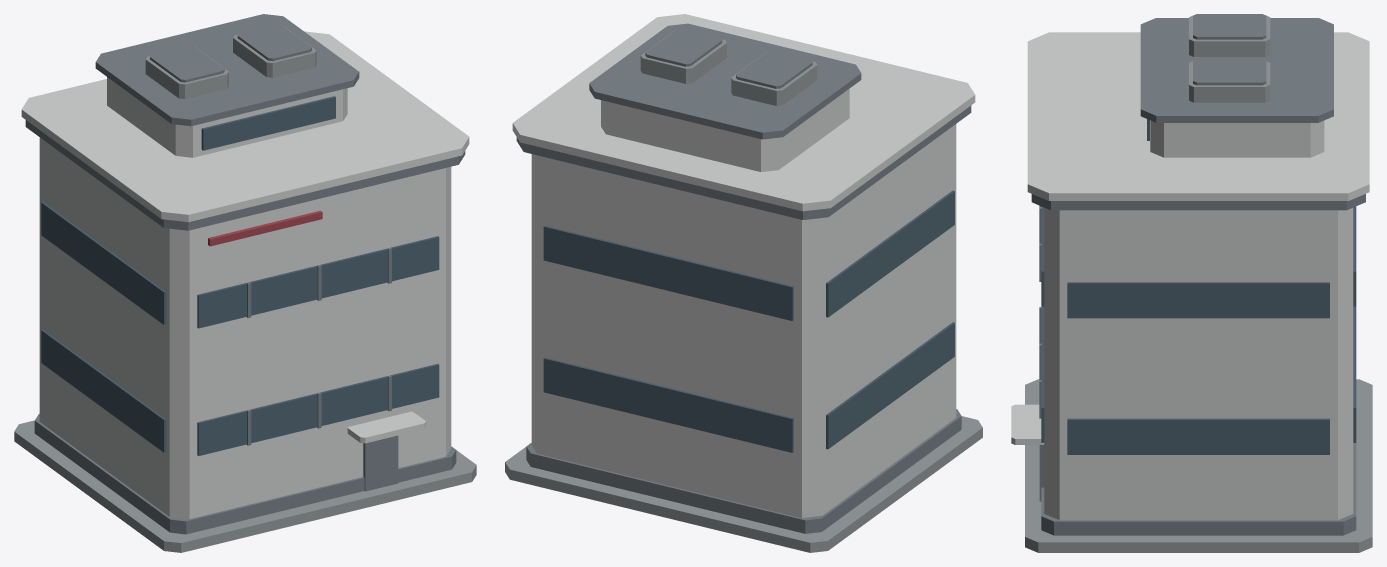
The model's file is AviationBuildingOperations.gltf.
3 renders of one model, left to right at view 1: azimuth 30°, elevation 25°; view 2: azimuth 150°, elevation 25°; view 3: azimuth 270°, elevation 25°, orthographic. The views are drawn at different scales.
Parts seen in each view (by area): view 1: AviationBuildingOperations; view 2: AviationBuildingOperations; view 3: AviationBuildingOperations.
Boxes of the visible parts, left/top/right/bottom form: AviationBuildingOperations: left=14, top=14, right=476, bottom=552; AviationBuildingOperations: left=505, top=14, right=982, bottom=552; AviationBuildingOperations: left=1011, top=14, right=1372, bottom=552.
Size of the model in its own units: 20 by 24.16 by 18.7.
